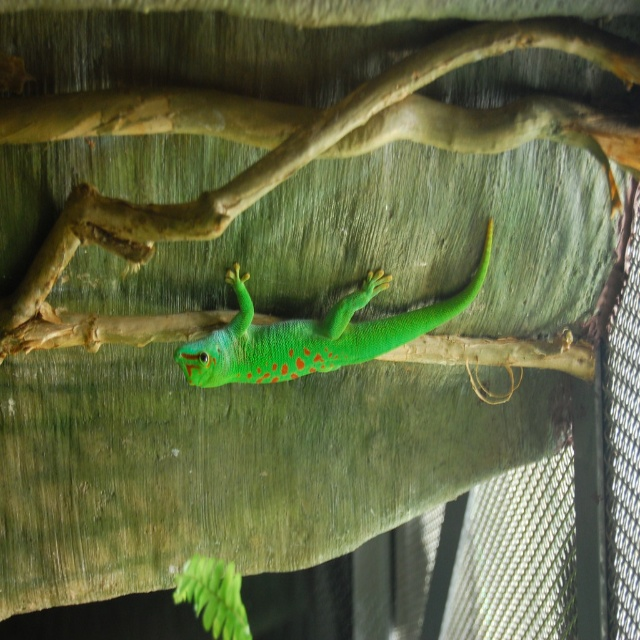Lizard: (171, 269, 484, 416)
